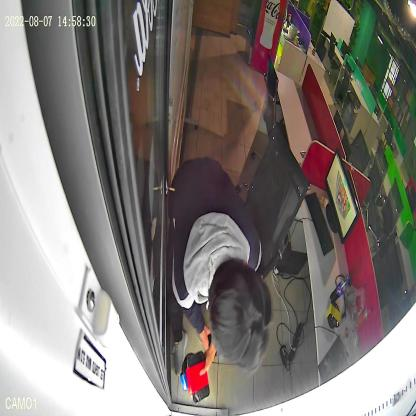blue: (180, 353, 194, 391)
red: (187, 350, 210, 404)
